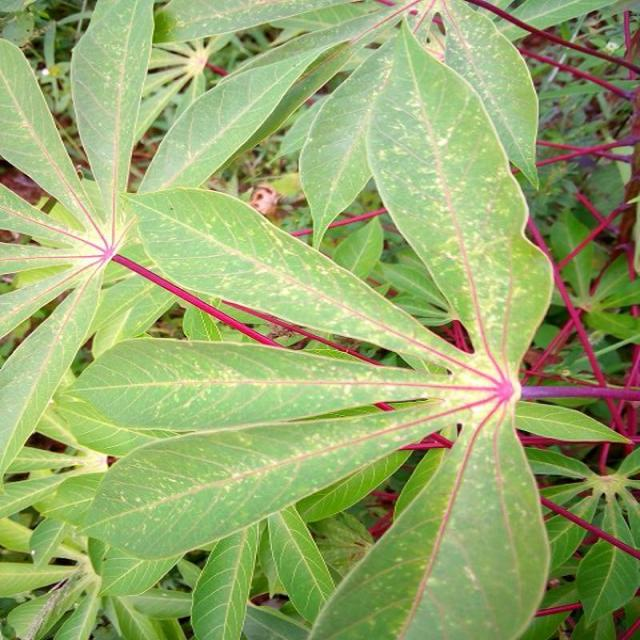cassava leaf: (3, 1, 631, 638)
